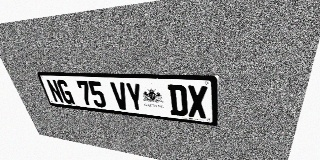5: (87, 81, 107, 108)
7: (75, 80, 95, 107)
D: (167, 84, 188, 117)
G: (56, 80, 75, 104)
N: (45, 79, 65, 103)
V: (110, 82, 130, 110)
X: (187, 85, 207, 119)
Y: (124, 82, 145, 112)
